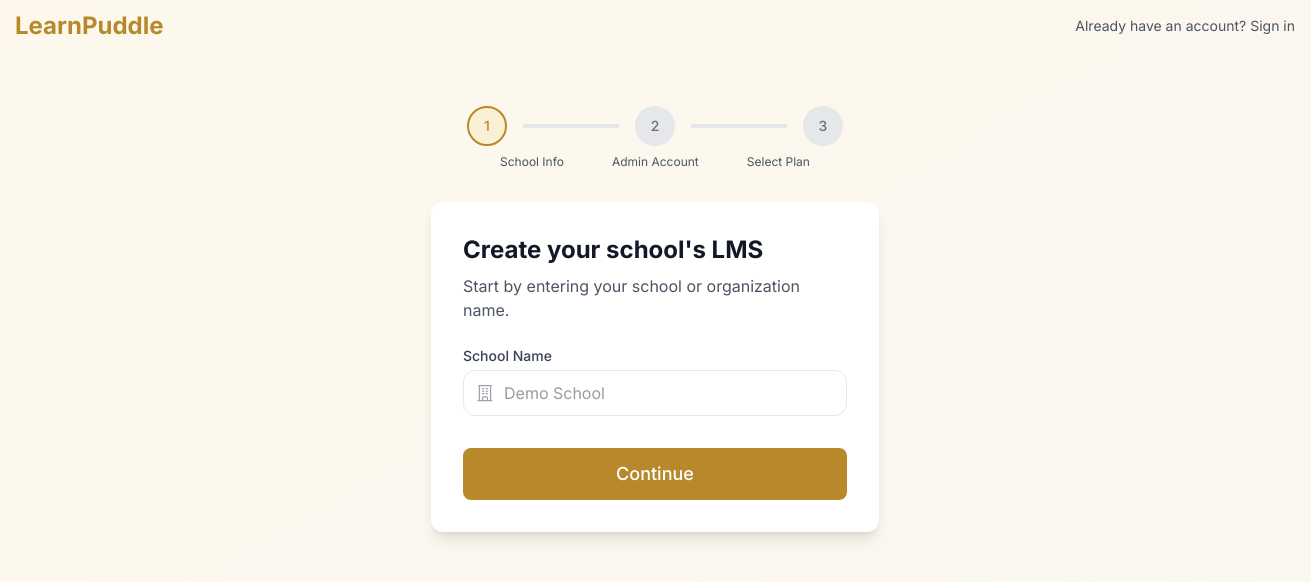
Scenario: SignupPage › step 1 validation › shows the same error when school name is only 2 characters
Type "AB" into the field labelled "School Name" at (655, 393), box [463, 370, 847, 416]
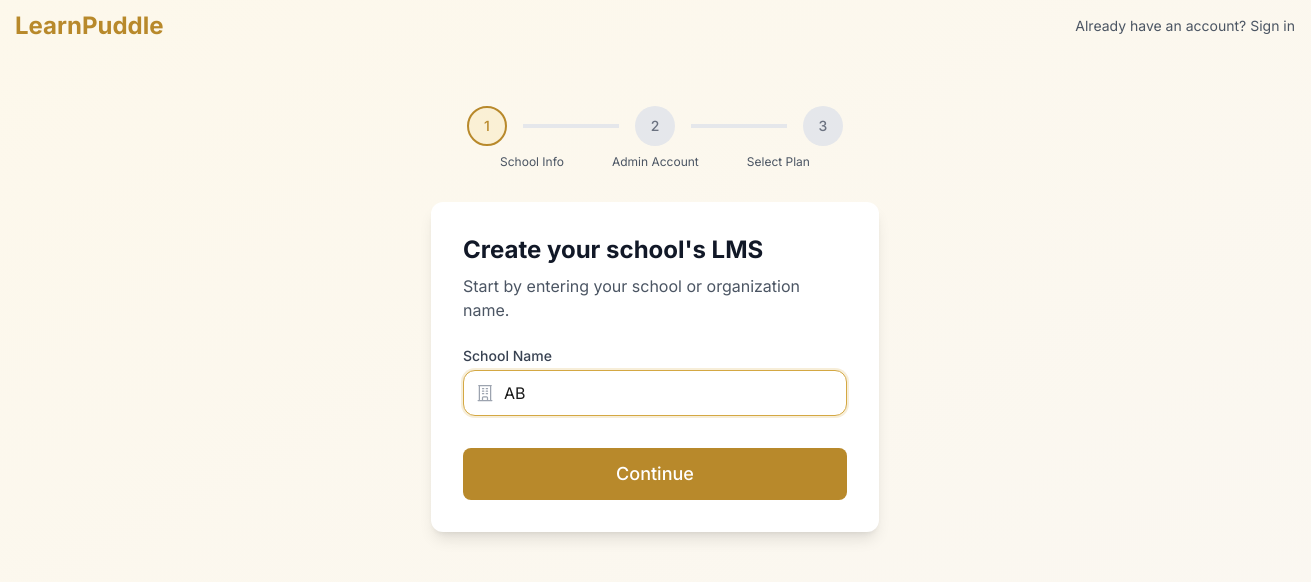
Click the button "Continue" at (655, 474), box [463, 448, 847, 500]
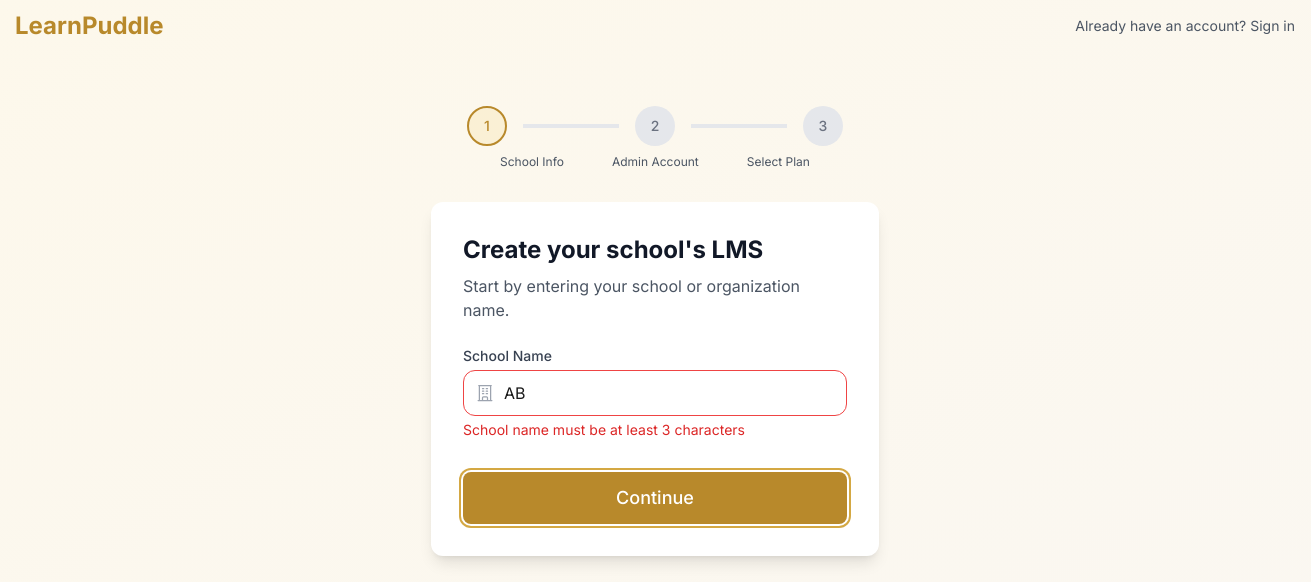
Result: the text "School name must be at least 3 characters" is shown at [463, 421, 745, 438]
